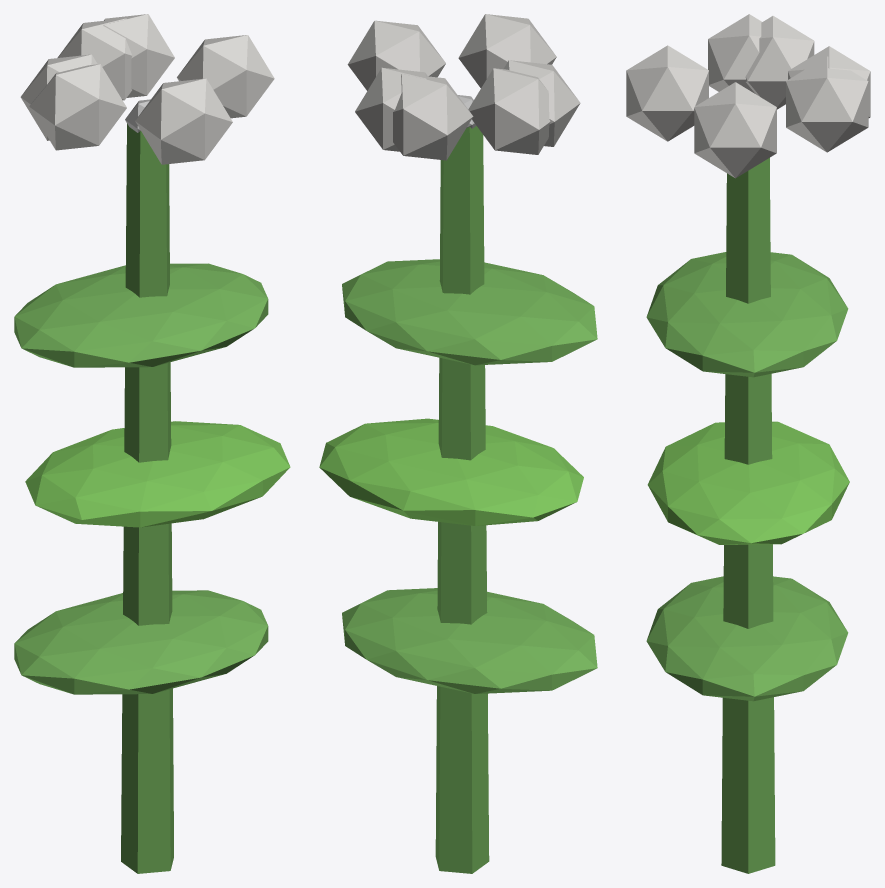
The model's file is solanum-diphyllum.glb.
3 renders of one model, left to right at view 1: azimuth 30°, elevation 25°; view 2: azimuth 150°, elevation 25°; view 3: azimuth 270°, elevation 25°, orthographic.
Visible parts, largest first — view 1: stem, leaf2, leaf1, leaf0, berry2, berry5, berry3, berry0, berry4, berry1; view 2: stem, leaf1, leaf2, leaf0, berry1, berry4, berry2, berry3, berry0, berry5; view 3: stem, leaf1, leaf2, leaf0, berry3, berry0, berry2, berry1, berry5, berry4.
Boxes of the visible parts, x1,y1,x2,y2 form: stem: (121,123,173,873); leaf2: (14,263,268,367); leaf1: (25,421,290,527); leaf0: (14,590,268,694); berry2: (135,78,232,164); berry5: (29,64,126,150); berry3: (177,35,274,118); berry0: (103,14,174,97); berry4: (57,18,132,100); berry1: (20,54,97,140); stem: (435,126,489,873); leaf1: (319,418,583,525); leaf2: (342,259,597,365); leaf0: (342,588,597,693); berry1: (468,68,550,154); berry4: (393,73,473,160); berry2: (458,14,556,87); berry3: (347,20,445,90); berry0: (355,67,427,151); berry5: (503,60,580,146); stem: (721,158,775,873); leaf1: (647,421,849,544); leaf2: (646,252,848,377); leaf0: (646,576,848,701); berry3: (694,82,776,178); berry0: (786,56,868,152); berry2: (626,45,708,141); berry1: (745,16,814,109); berry5: (708,14,761,93); berry4: (788,46,870,117).
Size of the model in its own units: 0.1495 by 0.4377 by 0.1206.
